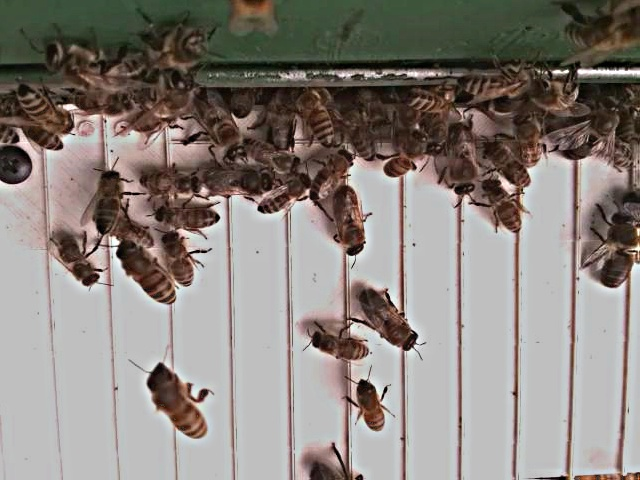Drone: (558, 96, 624, 169), (358, 288, 420, 354), (192, 89, 246, 164), (598, 211, 640, 290), (444, 124, 482, 202), (204, 165, 278, 204), (334, 184, 368, 261)
Worker: (116, 247, 180, 307), (150, 375, 207, 440), (481, 136, 535, 192), (20, 88, 77, 136), (255, 173, 314, 218), (310, 148, 354, 206), (57, 234, 101, 291), (484, 180, 526, 239), (93, 169, 127, 238), (385, 129, 428, 183), (153, 201, 223, 233), (310, 331, 374, 365), (303, 86, 336, 150), (163, 234, 197, 292), (355, 380, 389, 437), (514, 112, 546, 172), (405, 87, 466, 117), (138, 169, 201, 196)
